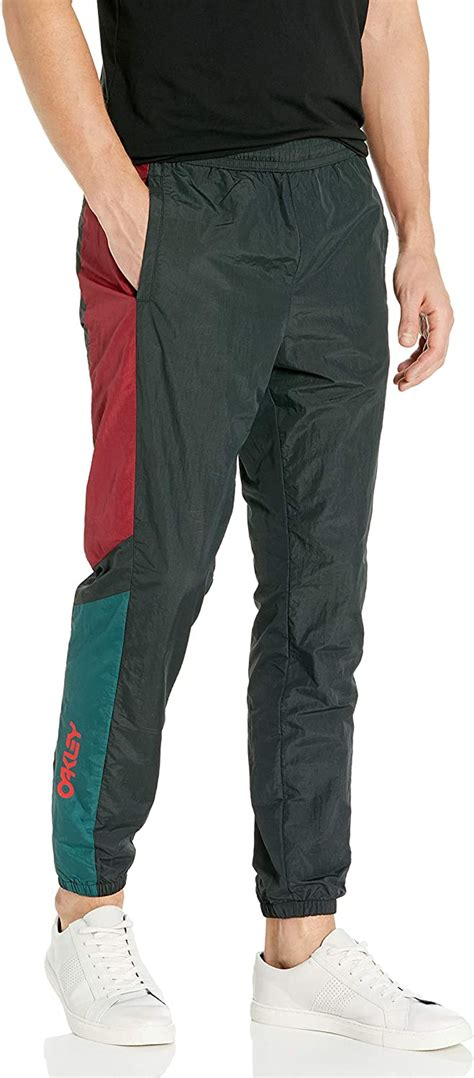nylon: (52, 124, 391, 917)
